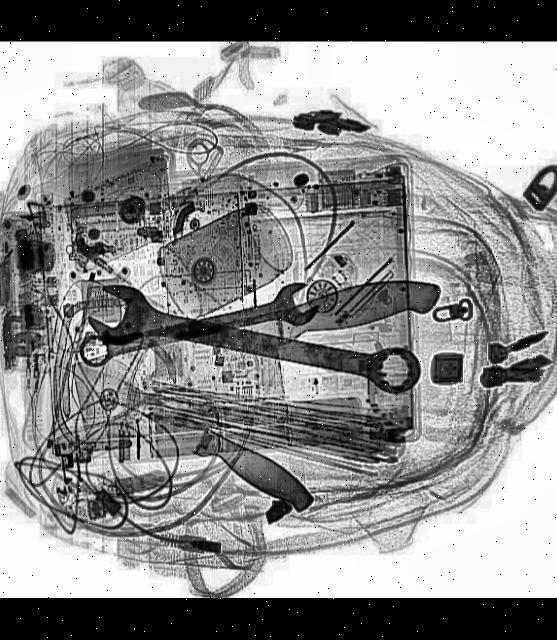Knife: (63, 270, 460, 456), (72, 350, 322, 515)
Wrench: (83, 278, 425, 413), (72, 278, 321, 379)
